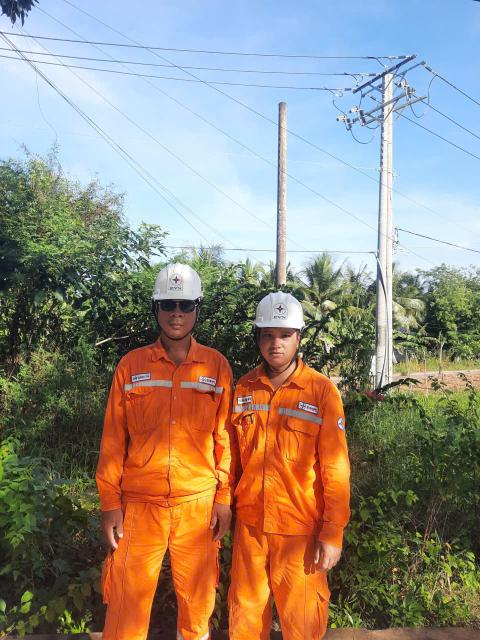helmet: (142, 256, 218, 311), (245, 284, 313, 334)
